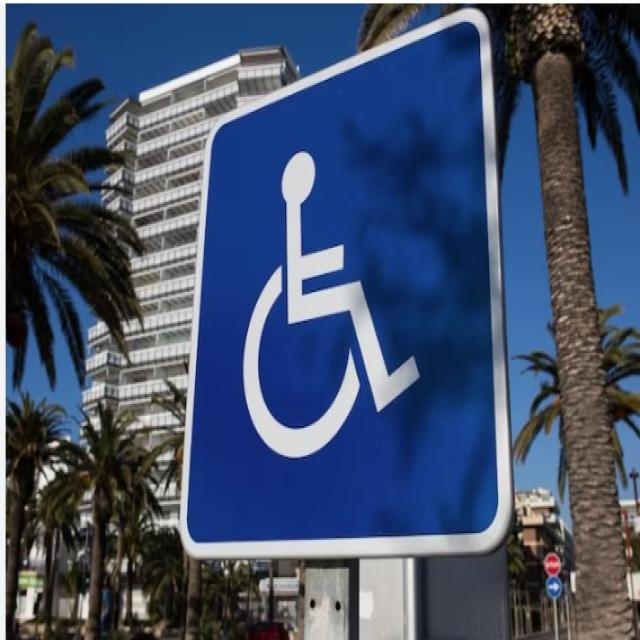symbol_of_access: (177, 5, 523, 563)
